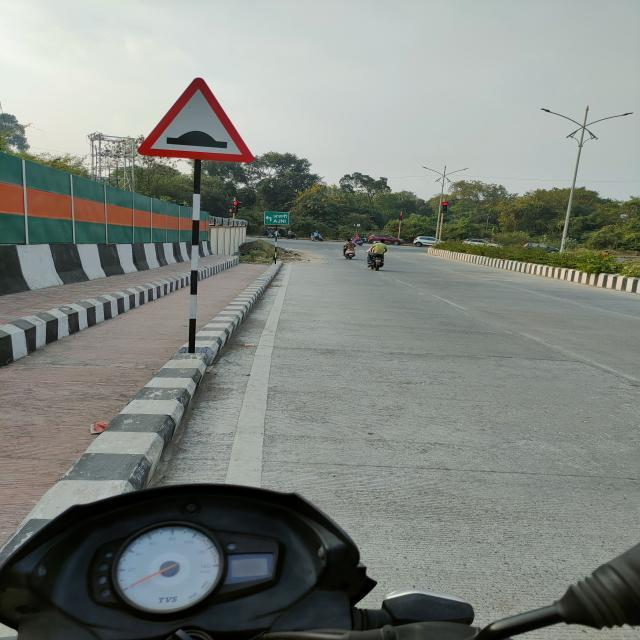hump or rough road: (134, 77, 261, 167)
